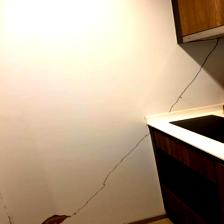High: (1, 35, 224, 224)
